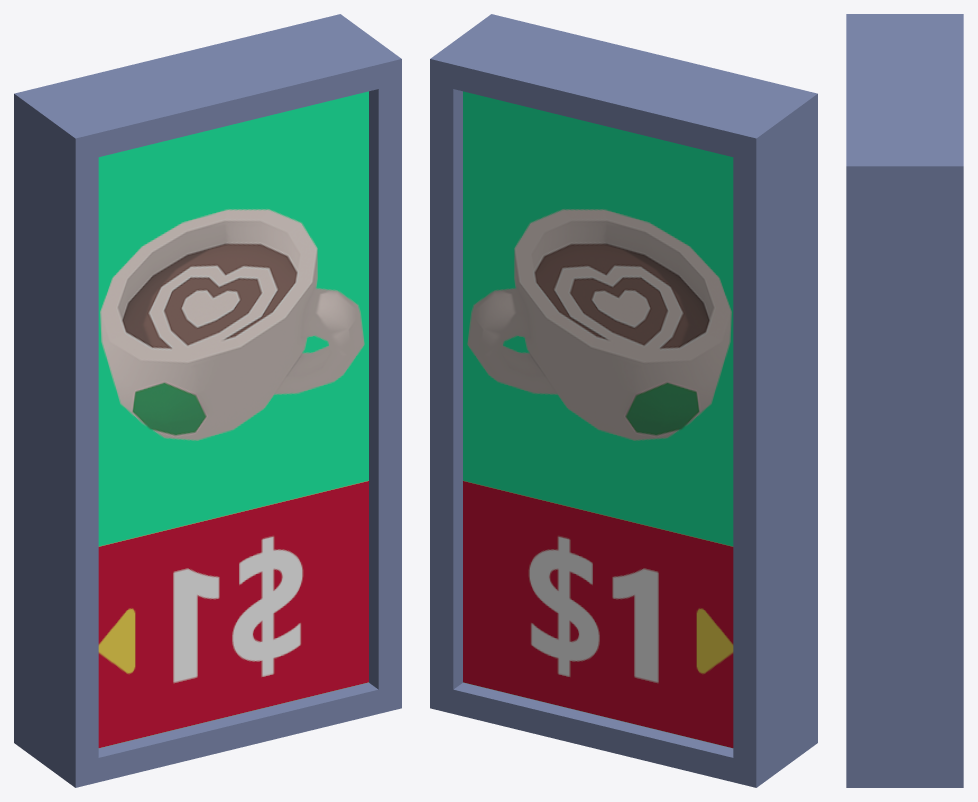
File: adboard_Coffee_geo.fbx
3 renders of one model, left to right at view 1: azimuth 30°, elevation 25°; view 2: azimuth 150°, elevation 25°; view 3: azimuth 270°, elevation 25°, orthographic. The views are drawn at different scales.
Parts seen in each view (by area): view 1: adboard_Coffee_geo; view 2: adboard_Coffee_geo; view 3: adboard_Coffee_geo.
Boxes of the visible parts, x1,y1,x2,y2 form: adboard_Coffee_geo: (14, 14, 401, 787); adboard_Coffee_geo: (430, 14, 817, 787); adboard_Coffee_geo: (846, 14, 963, 787).
Bounding box in the file's own units: 0.7668 × 0.2497 × 1.46.
